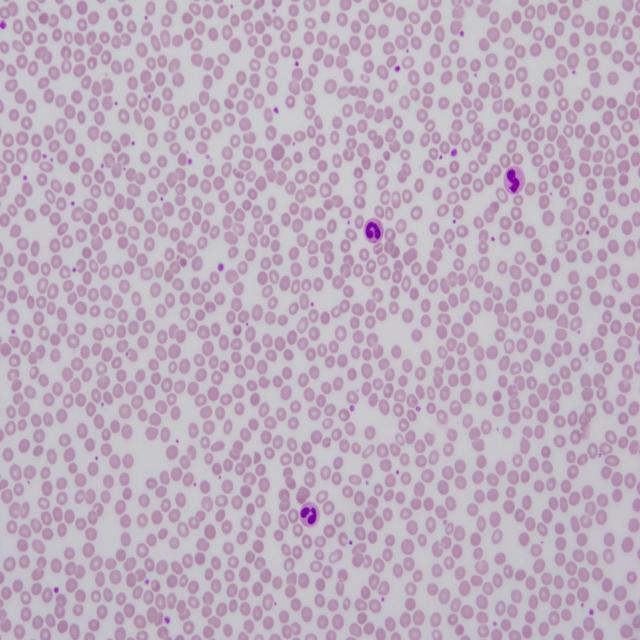cell: (300, 502, 320, 528)
